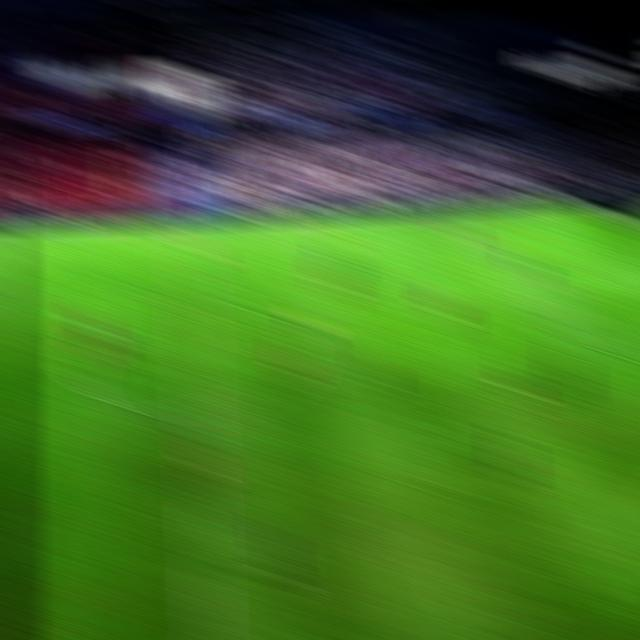bigarea_top_inner: (490, 237, 521, 257)
bigarea_top_outter: (626, 227, 640, 246)
bottom_arc_area_intersection: (627, 347, 640, 372)
corner: (562, 195, 596, 212)
halfcircle_bottom: (175, 394, 216, 429)
halfcircle_top: (171, 291, 212, 323)
midline_top_intersection: (171, 213, 206, 238)
top_arc_area_intersection: (541, 279, 573, 299)
